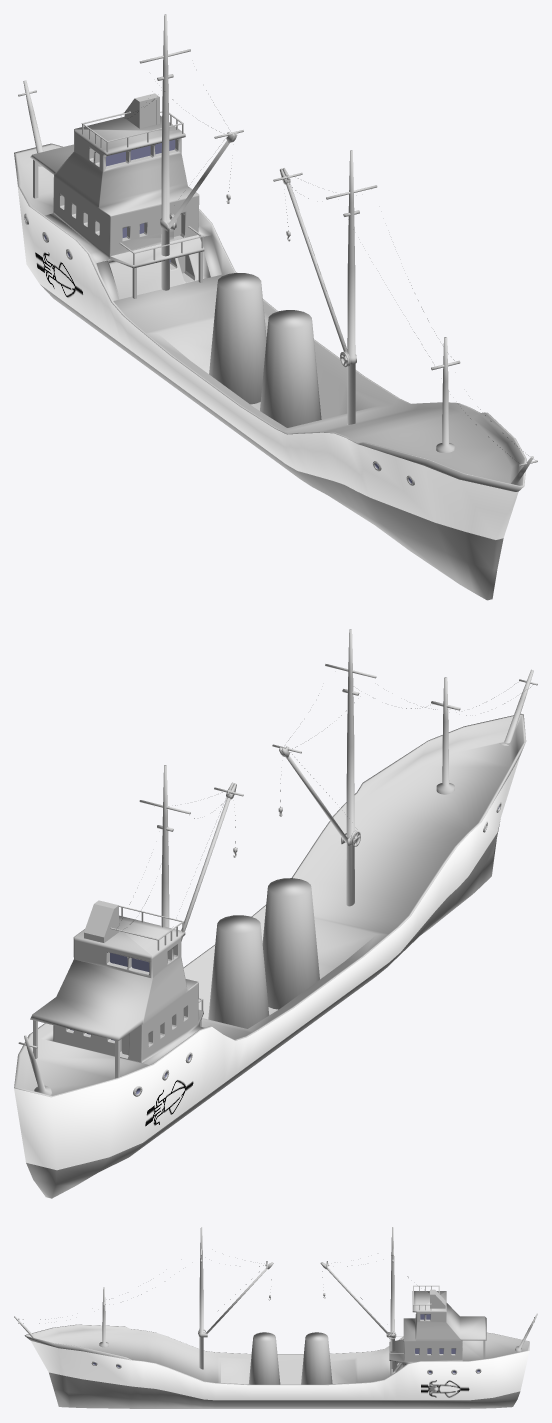
The model's file is D3_Ship5.glb.
3 views of the same model, one above another, from view 1: azimuth 30°, elevation 25°; view 2: azimuth 150°, elevation 25°; view 3: azimuth 270°, elevation 25° (orthographic). The views are drawn at different scales.
Parts seen in each view (by area): view 1: Object_6, Object_2, Cylinder.001, Cylinder, Object_4; view 2: Object_6, Object_2, Cylinder, Cylinder.001; view 3: Object_6, Object_2, Cylinder.001, Cylinder.
Part boxes in pixels (x1,y1,x2,y2): Object_6: (14, 14, 537, 600); Object_2: (15, 162, 518, 539); Cylinder.001: (209, 272, 266, 404); Cylinder: (260, 310, 321, 427); Object_4: (26, 139, 412, 483); Object_6: (14, 629, 537, 1198); Object_2: (14, 756, 519, 1170); Cylinder: (262, 878, 319, 1009); Cylinder.001: (208, 915, 269, 1028); Object_6: (14, 1227, 537, 1408); Object_2: (31, 1341, 529, 1400); Cylinder.001: (301, 1332, 332, 1384); Cylinder: (249, 1332, 280, 1384).
Bounding box in the file's own units: 6.14 × 16.34 × 43.39.
Materials: 5 (1 with a texture image).
